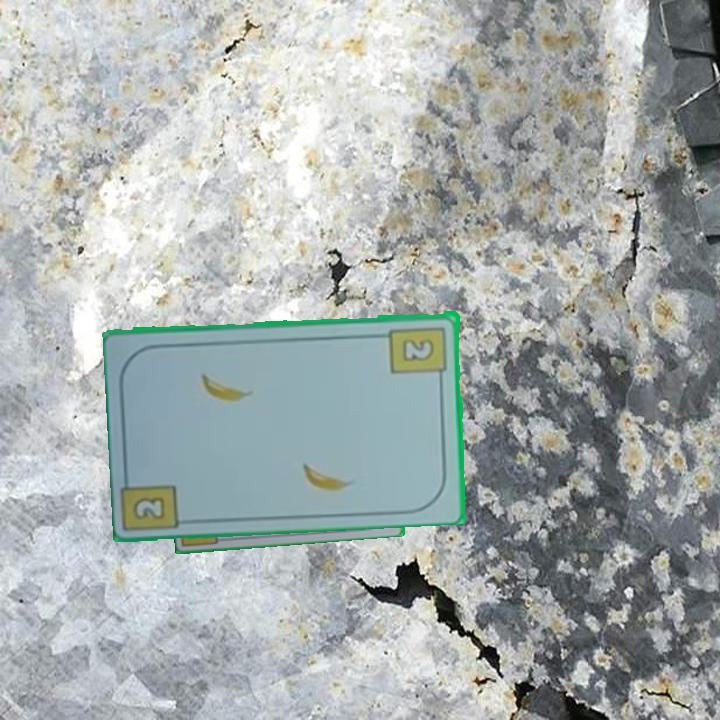2b: (387, 322, 450, 384), (129, 493, 169, 523)
